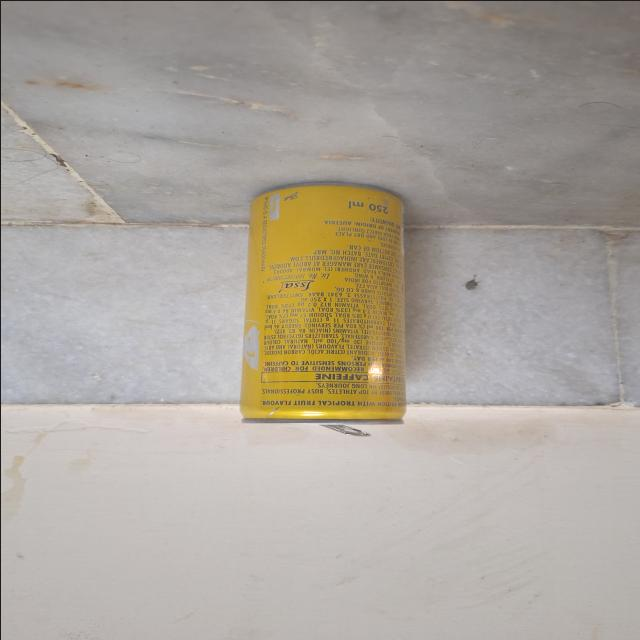Redbull Yellow Edition: (228, 177, 440, 442)
